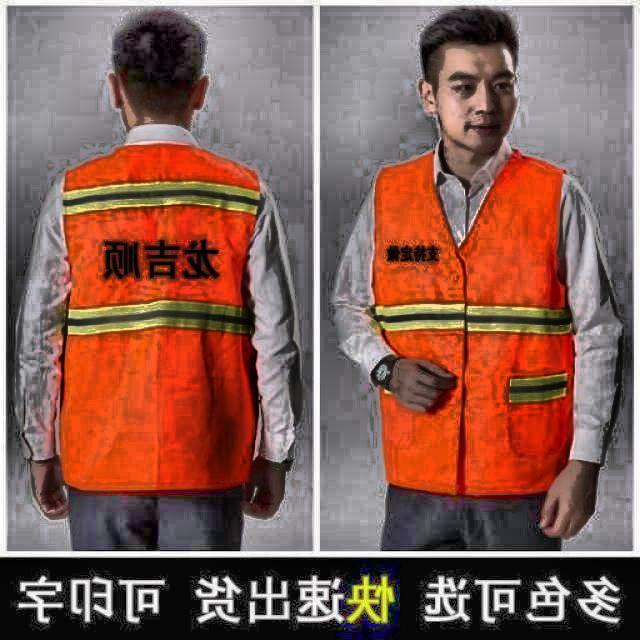safety_jacket: (52, 138, 270, 492), (373, 146, 578, 499)
